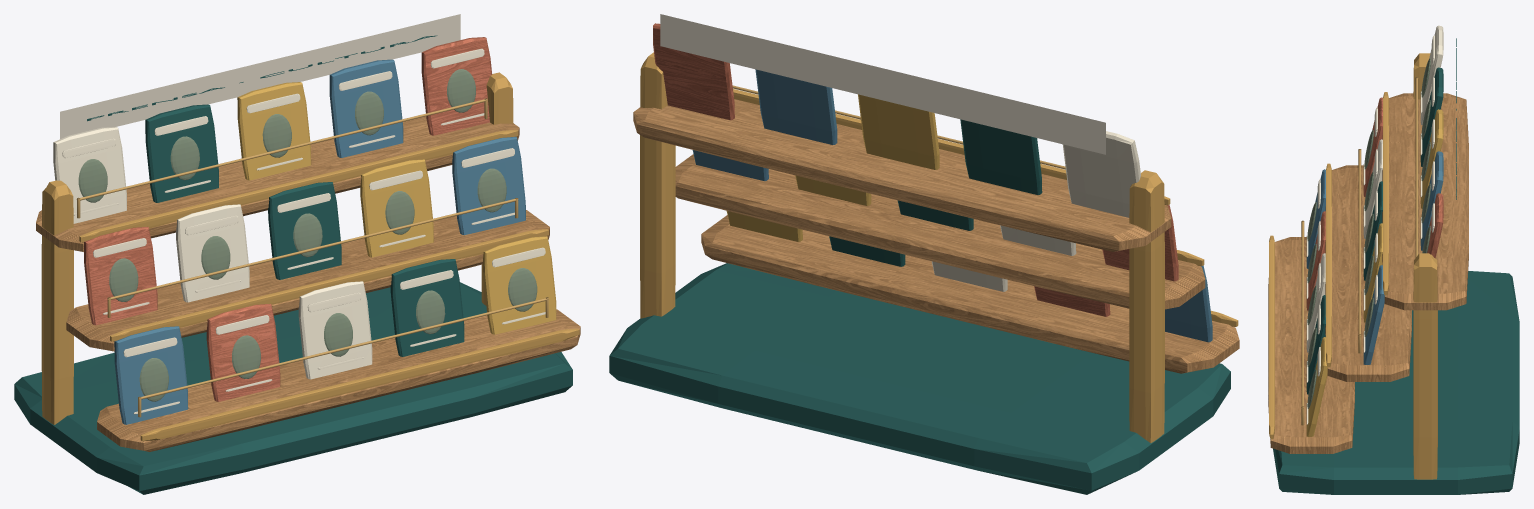
File: hiperreal-hd.glb
3 views of the same model, side by side, from view 1: azimuth 30°, elevation 25°; view 2: azimuth 150°, elevation 25°; view 3: azimuth 270°, elevation 25° (orthographic). The views are drawn at different scales.
Visible parts, largest first — view 1: Native component 1, Native component 10, Native component 5, Native component 16, Native component 49, Native component 13, Native component 67, Native component 64, Native component 0, Hiperreal varilla retención 1, Hiperreal varilla retención 0, Hiperreal varilla retención 2; view 2: Native component 1, Native component 10, Native component 5, Native component 0, Native component 13, Native component 16, Native component 64, Native component 67; view 3: Native component 10, Native component 1, Native component 5, Native component 16, Native component 49, Native component 67, Native component 13, Native component 64, Hiperreal varilla retención 2, Hiperreal varilla retención 0, Hiperreal varilla retención 1.
Boxes of the visible parts, left/top/right/bottom form: Native component 1: left=14, top=104, right=572, bottom=494; Native component 10: left=36, top=116, right=580, bottom=451; Native component 5: left=41, top=72, right=579, bottom=441; Native component 16: left=53, top=48, right=545, bottom=414; Native component 49: left=78, top=69, right=537, bottom=401; Native component 13: left=114, top=59, right=525, bottom=424; Native component 67: left=237, top=82, right=556, bottom=334; Native component 64: left=84, top=37, right=492, bottom=401; Native component 0: left=60, top=14, right=460, bottom=138; Hiperreal varilla retención 1: left=107, top=199, right=518, bottom=300; Hiperreal varilla retención 0: left=139, top=298, right=548, bottom=399; Hiperreal varilla retención 2: left=76, top=99, right=487, bottom=200; Native component 1: left=609, top=119, right=1230, bottom=494; Native component 10: left=633, top=99, right=1239, bottom=373; Native component 5: left=640, top=52, right=1238, bottom=442; Native component 0: left=660, top=14, right=1105, bottom=154; Native component 13: left=692, top=69, right=1212, bottom=342; Native component 16: left=931, top=131, right=1140, bottom=291; Native component 64: left=653, top=23, right=1178, bottom=316; Native component 67: left=726, top=94, right=939, bottom=241; Native component 10: left=1268, top=93, right=1468, bottom=453; Native component 1: left=1273, top=67, right=1519, bottom=494; Native component 5: left=1268, top=53, right=1437, bottom=479; Native component 16: left=1306, top=25, right=1443, bottom=424; Native component 49: left=1307, top=58, right=1430, bottom=408; Native component 67: left=1306, top=109, right=1443, bottom=436; Native component 13: left=1306, top=151, right=1443, bottom=364; Native component 64: left=1306, top=97, right=1443, bottom=310; Hiperreal varilla retención 2: left=1415, top=78, right=1418, bottom=257; Hiperreal varilla retención 0: left=1301, top=222, right=1303, bottom=408; Hiperreal varilla retención 1: left=1358, top=150, right=1360, bottom=336.
Bounding box in the file's own units: 2 × 1.3 × 1.01.
11 materials, 2 textured.
